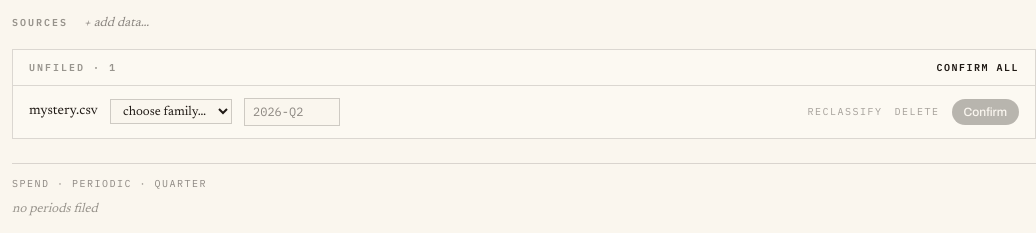
Test: SourceManager › renders pickers for a proposal-less row; Confirm stays disabled until family+period are chosen
expect the button "Confirm" is disabled: met, box x1=952 y1=98 x2=1019 y2=124
Select "Spend" in the dropdown with test id "family-src_2" at (171, 112), box x1=110 y1=99 x2=232 y2=124
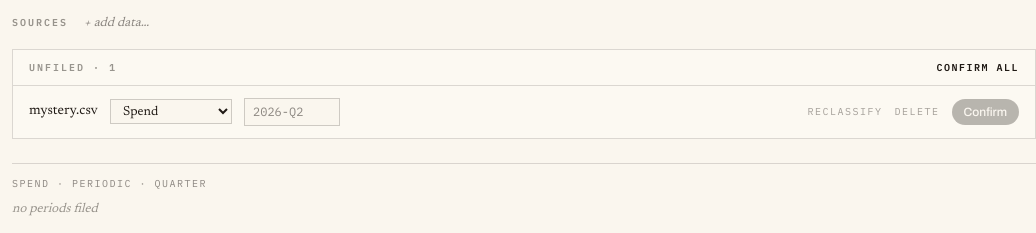
expect the button "Confirm" is disabled: met, box x1=952 y1=98 x2=1019 y2=124
Type "2026-Q1" into the field with test id "period-src_2" at (292, 112), box x1=244 y1=98 x2=340 y2=126
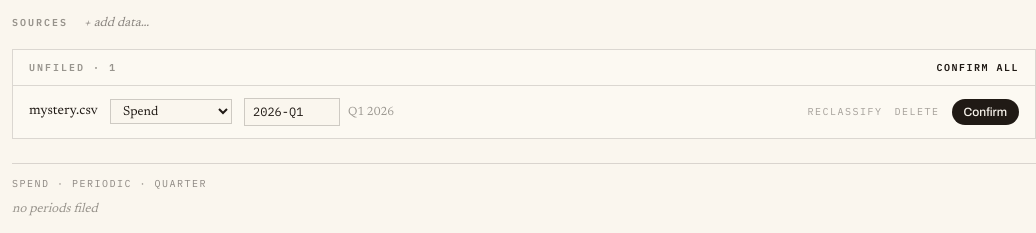
expect the button "Confirm" is enabled: met, box x1=952 y1=98 x2=1019 y2=124
